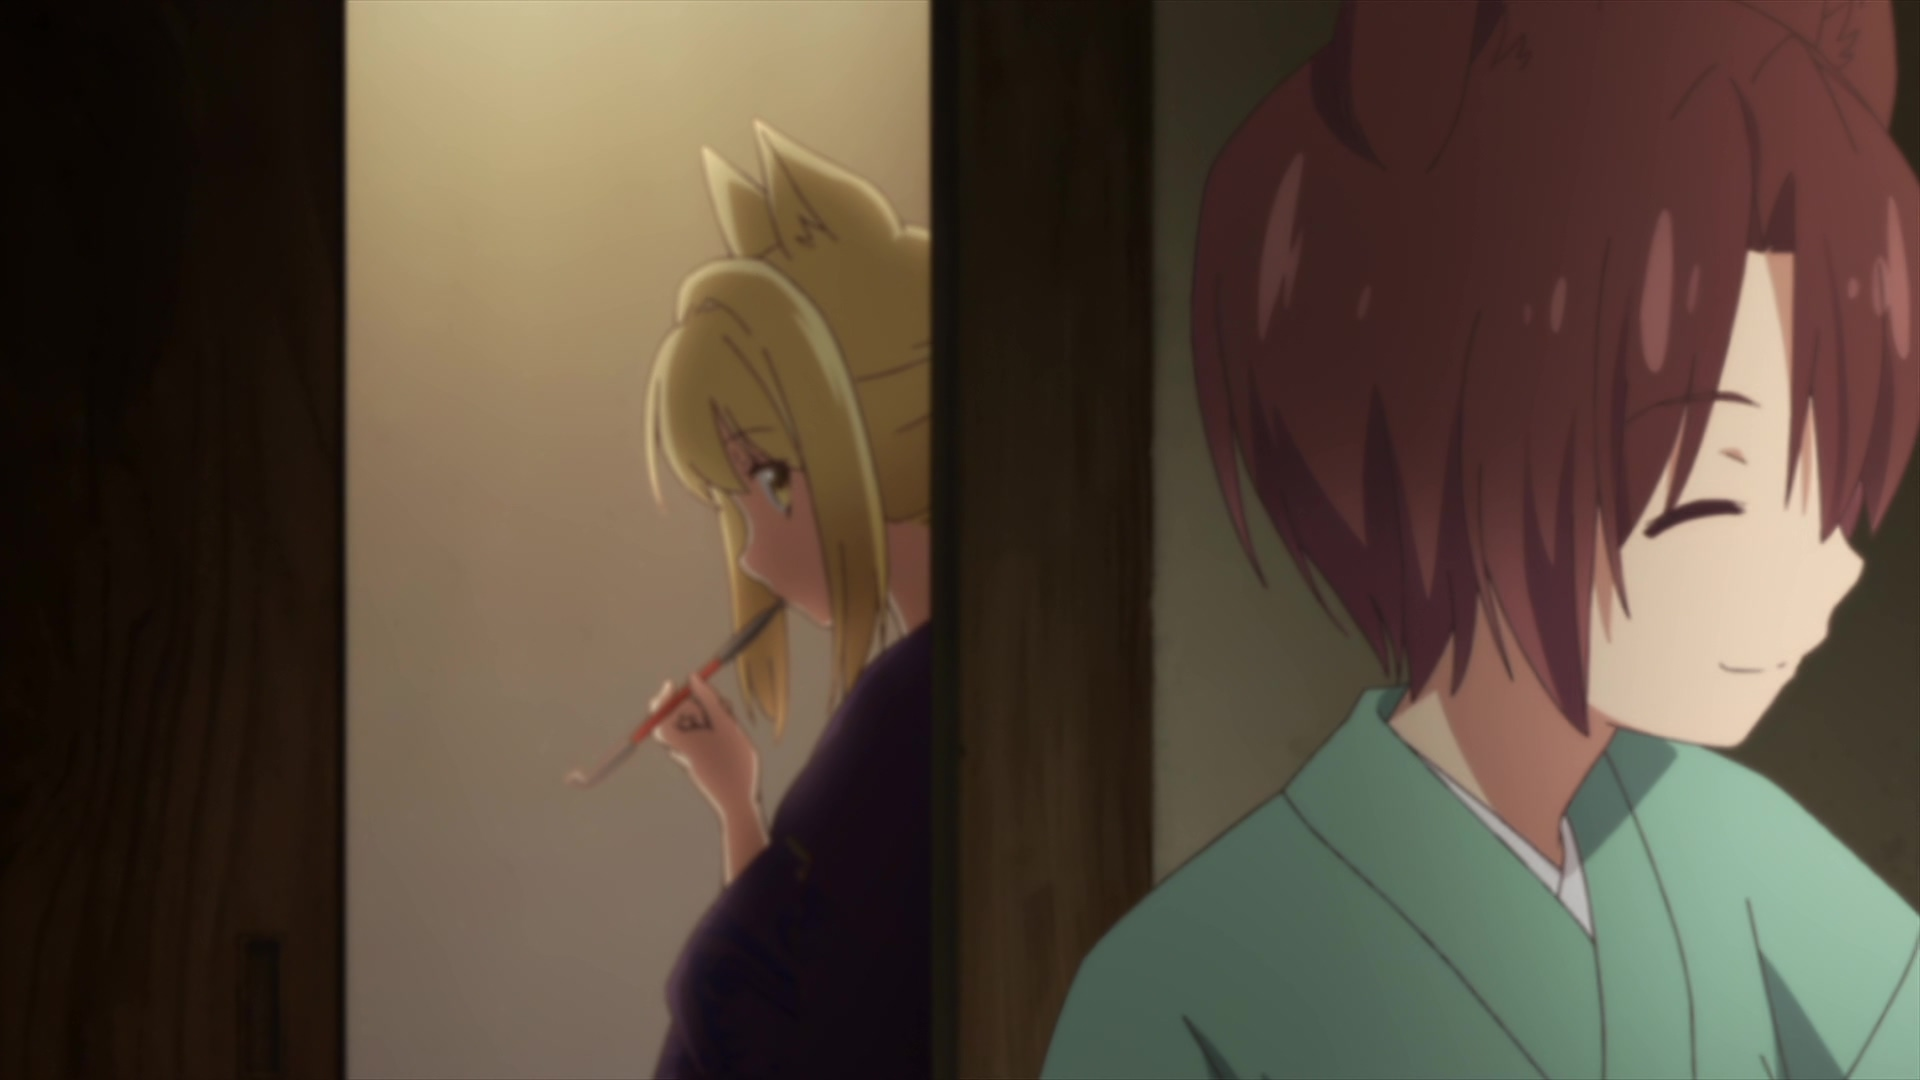枣: (1044, 1, 1920, 1080)
桐: (562, 123, 930, 1080)
